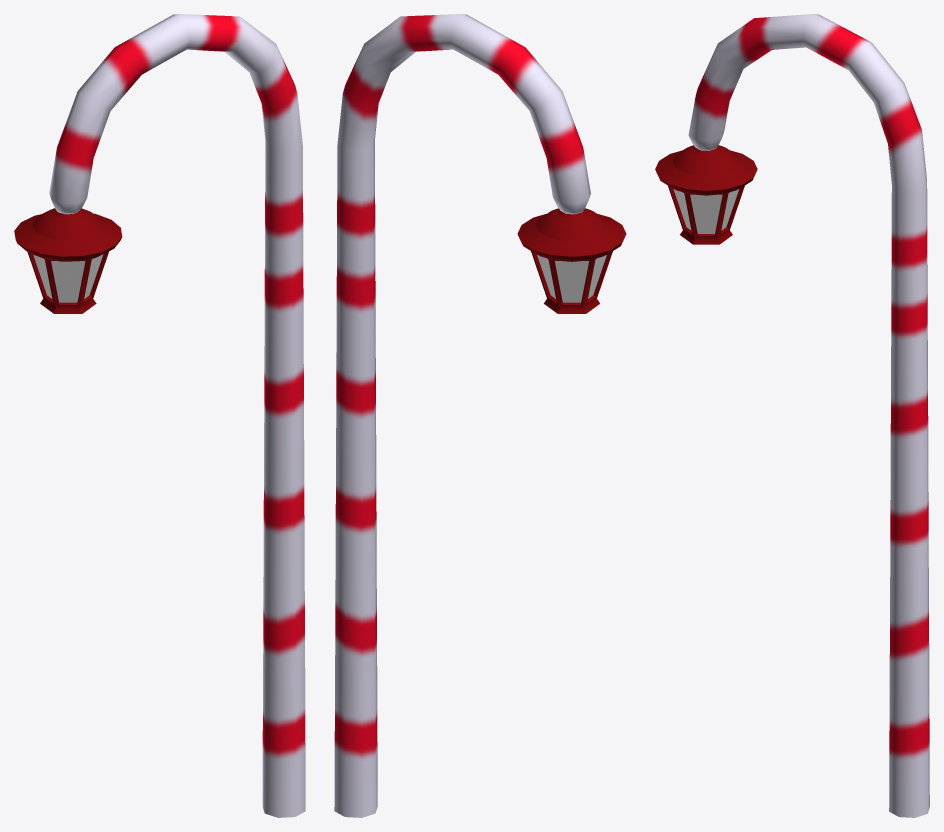
Rendered from candyLamp.fbx.
3 renders of one model, left to right at view 1: azimuth 30°, elevation 25°; view 2: azimuth 150°, elevation 25°; view 3: azimuth 330°, elevation 25°, orthographic. The views are drawn at different scales.
Parts seen in each view (by area): view 1: candycane; view 2: candycane; view 3: candycane.
Boxes of the visible parts, x1,y1,x2,y2 form: candycane: [14, 14, 305, 817]; candycane: [334, 14, 626, 817]; candycane: [655, 14, 929, 817].
Bounding box in the file's own units: 177 × 491 × 58.57.
2 materials, 2 textured.
